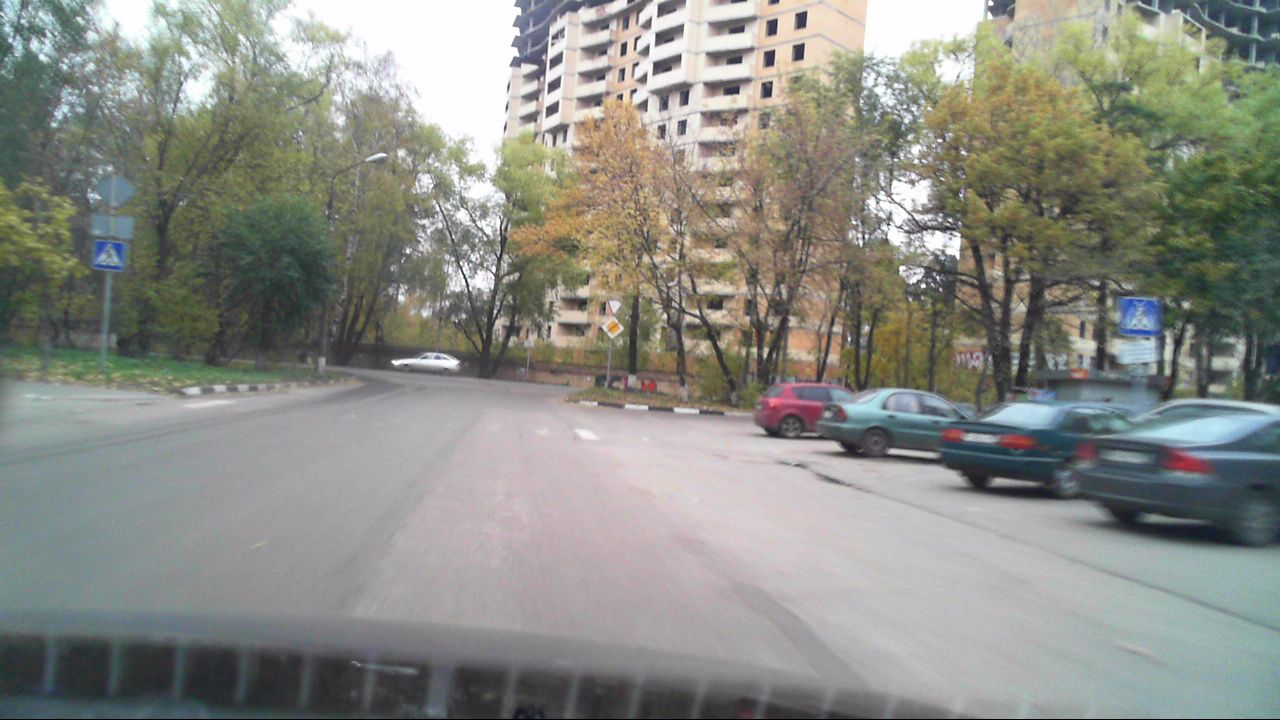main road: (602, 316, 623, 339)
